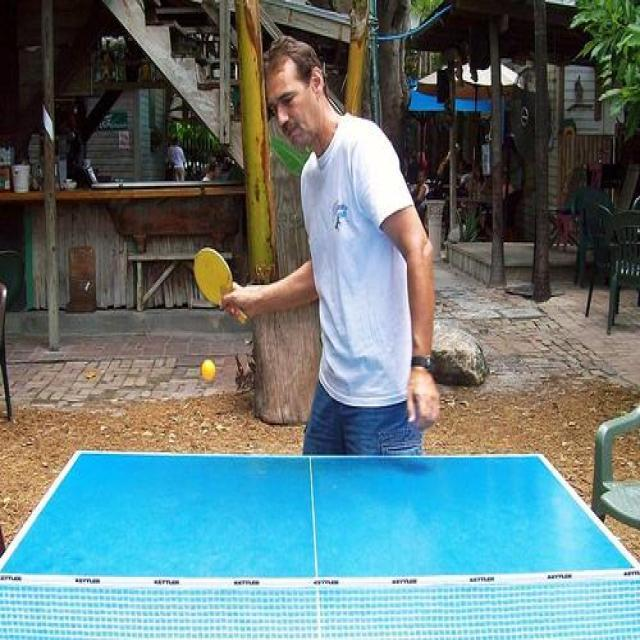ping-pong-ball: (202, 358, 217, 382)
